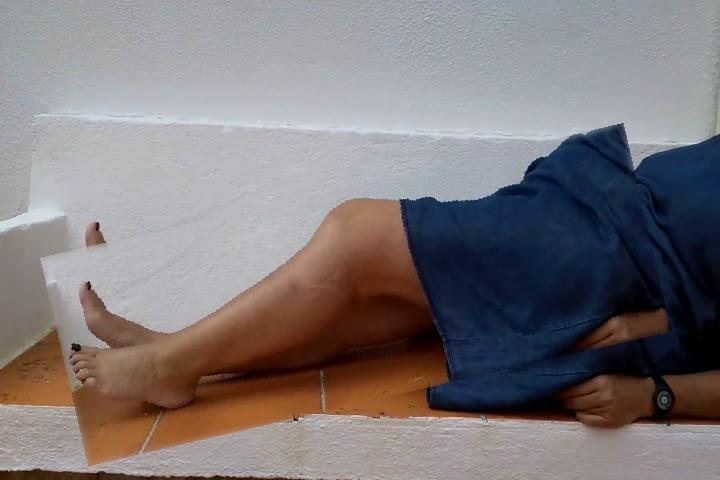lowerbody: (49, 157, 664, 435)
